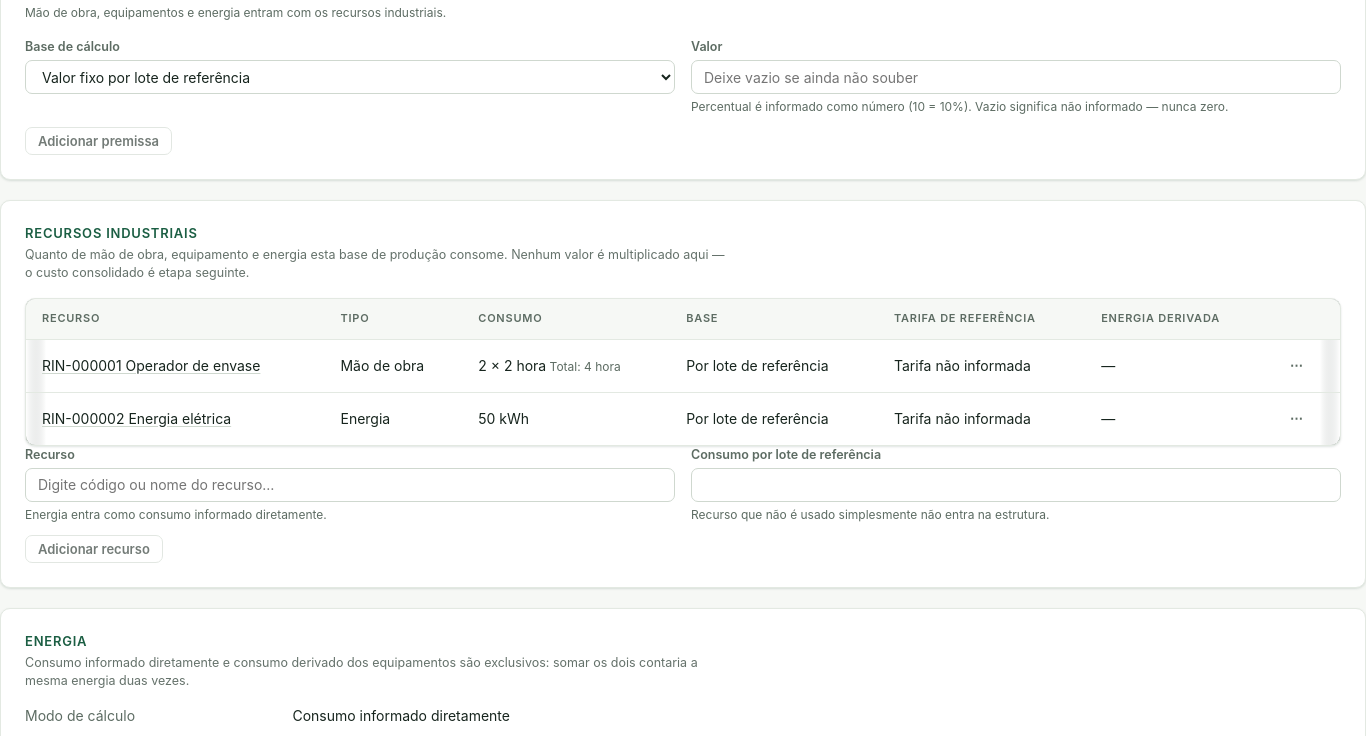
Test: Estrutura de Custos — editar a linha de recurso (COST-RESOURCE-EDIT-01) › editar a duração: PATCH da mesma linha, sem remover nem criar, e a leitura nova na mesma posição
(page scrolled)
Expected: the row that starts with "RIN-000001 Operador de envase" shows "2 × 2", [478,357,546,374]
Click the button "⋯" in the row of "RIN-000001 Operador de envase": click(1296, 366) [1281,352,1312,380]
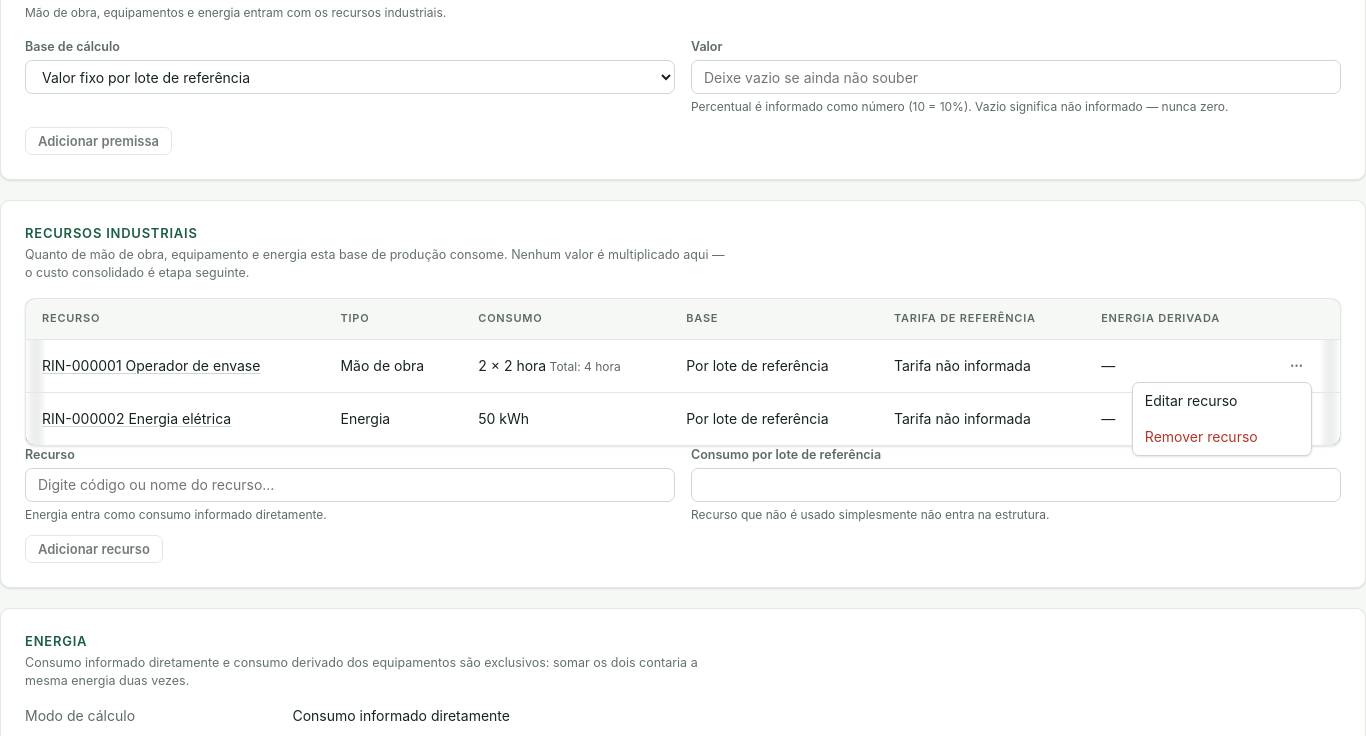
Click the menu item "Editar recurso": click(1222, 401) [1133,383,1311,419]
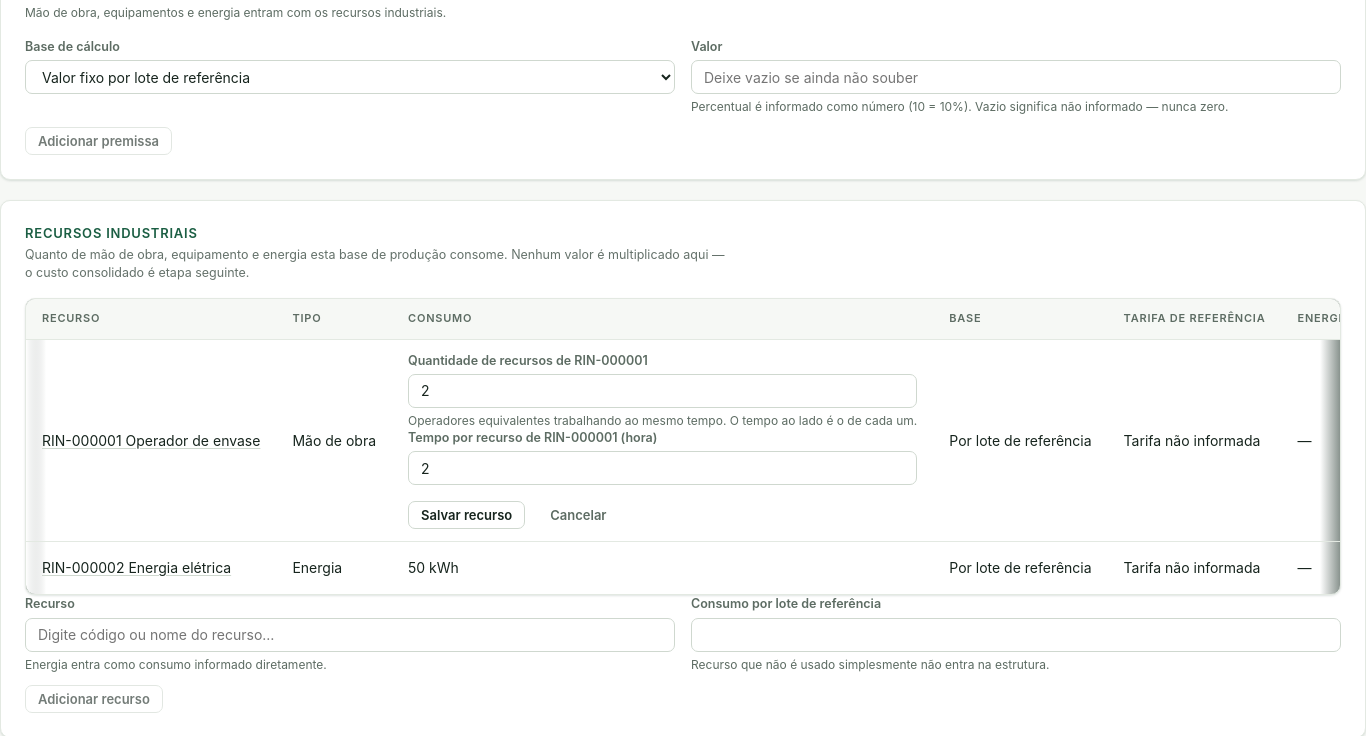
Expected: the field labelled "Quantidade de recursos de RIN-000001" holds "2", [408,374,917,408]
Replace the text in the field labelled "Tempo por recurso de RIN-000001 (hora)" with "3,5": (663, 468) [408,452,917,486]
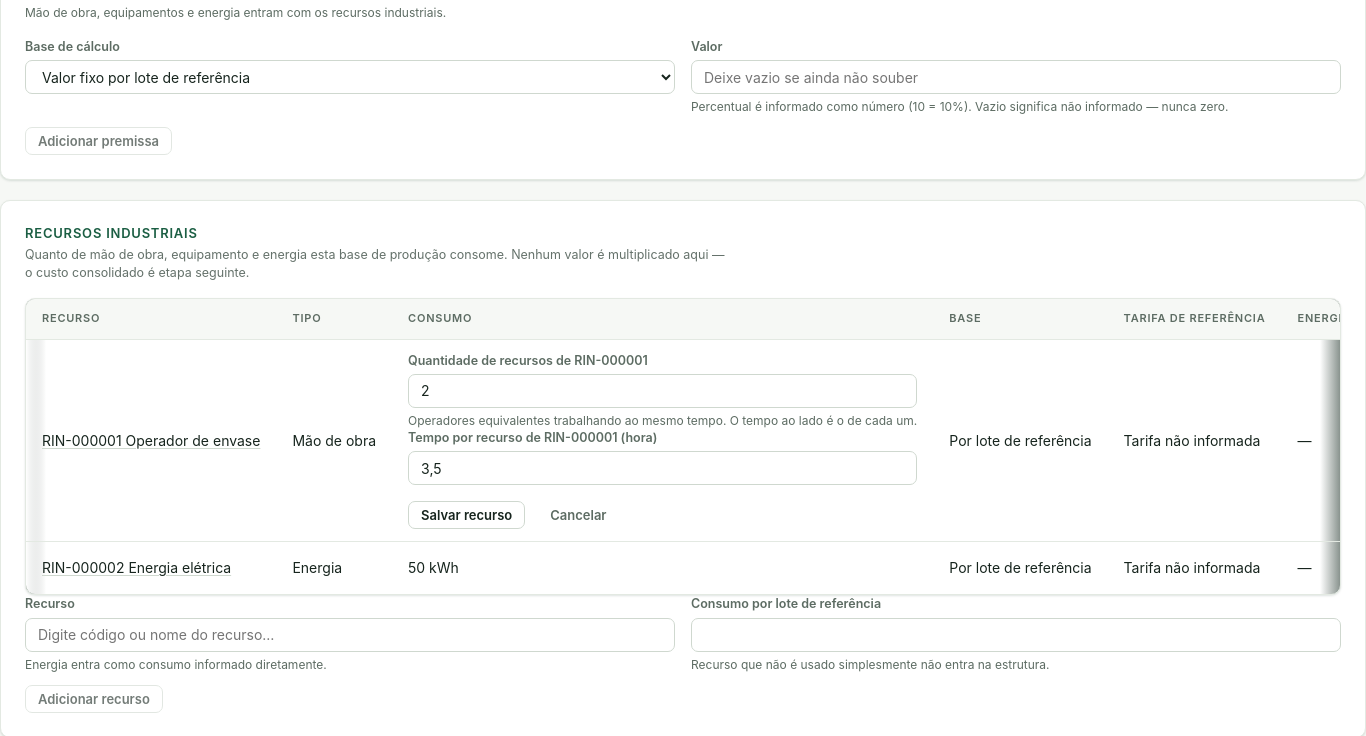
Click the button "Salvar recurso": click(467, 516) [408,502,525,530]
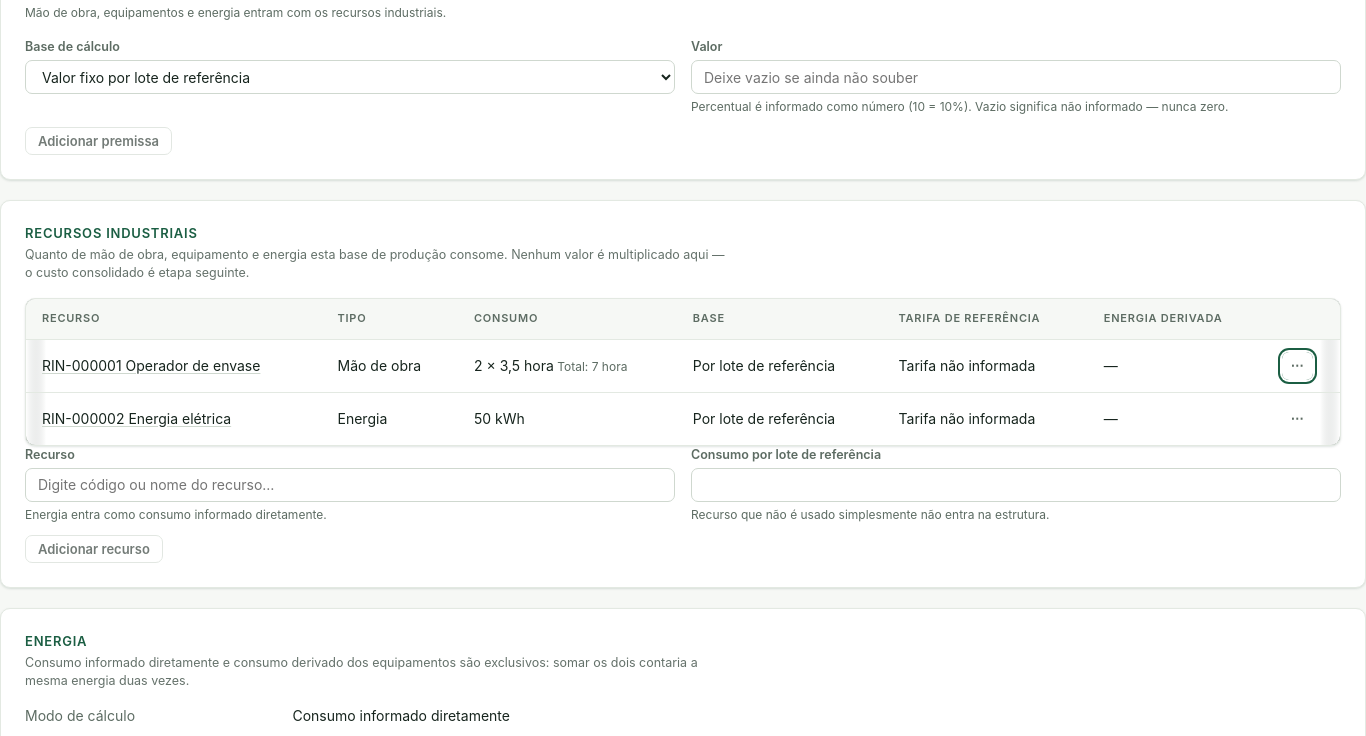
Expected: the row that starts with "RIN-000001 Operador de envase" shows "2 × 3,5", [474,357,554,374]
Expected: the row that starts with "RIN-000001 Operador de envase" shows "Total: 7", [557,359,627,374]
Expected: the button "Salvar recurso" is gone
